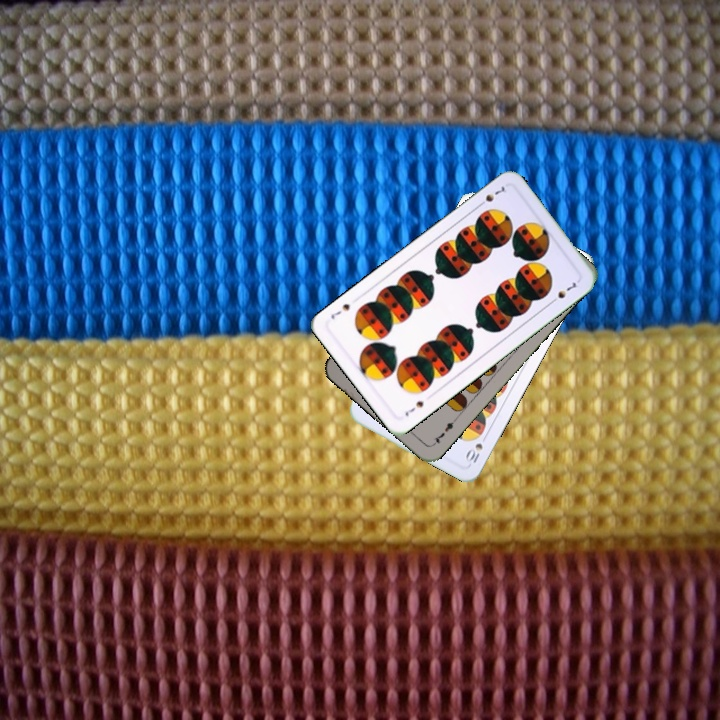E7: (428, 415, 459, 448)
S10: (461, 430, 490, 467)
S7: (473, 182, 510, 210), (401, 397, 426, 419)
